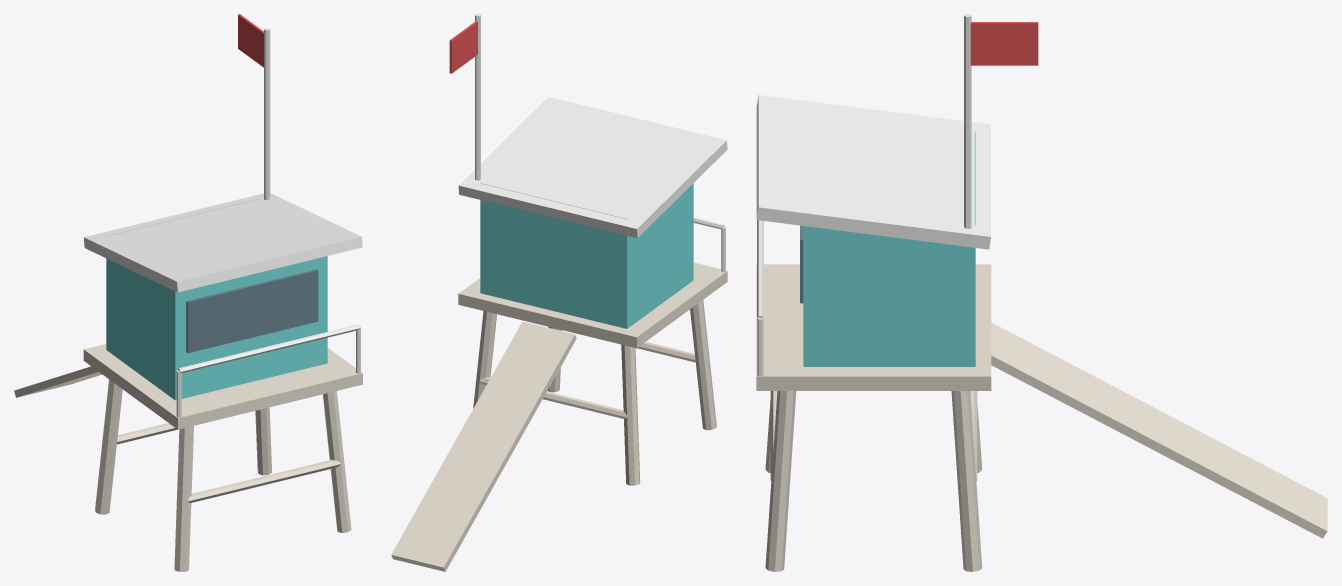
File: lifeguard.glb
The picture shows the model from 3 angles, left to right: view 1: azimuth 30°, elevation 25°; view 2: azimuth 150°, elevation 25°; view 3: azimuth 270°, elevation 25°; orthographic projection. The views are drawn at different scales.
Parts seen in each view (by area): view 1: Kabine, Cube.002, Cube, Cube.001, Cylinder, Cylinder.002, Cylinder.001, Cylinder.004, Cylinder.009, Cylinder.008, Cylinder.003, Cube.004 (+2 smaller); view 2: Cube.002, Kabine, Cube.003, Cube, Cylinder.001, Cylinder, Cylinder.003, Cube.004, Cylinder.009, Cylinder.005, Cylinder.004; view 3: Cube.002, Kabine, Cube.003, Cube, Cylinder.002, Cylinder.003, Cube.004, Cylinder.009.
Boxes of the visible parts, left/top/right/bottom form: Kabine: left=106, top=199, right=327, bottom=400; Cube.002: left=84, top=193, right=362, bottom=292; Cube: left=83, top=344, right=362, bottom=429; Cube.001: left=186, top=269, right=318, bottom=353; Cylinder: left=174, top=426, right=193, bottom=571; Cylinder.002: left=322, top=391, right=351, bottom=532; Cylinder.001: left=95, top=379, right=122, bottom=514; Cylinder.004: left=188, top=459, right=340, bottom=502; Cylinder.009: left=264, top=28, right=270, bottom=200; Cylinder.008: left=178, top=324, right=359, bottom=373; Cylinder.003: left=255, top=407, right=271, bottom=475; Cube.004: left=238, top=14, right=263, bottom=67; Cube.002: left=458, top=96, right=727, bottom=238; Kabine: left=480, top=183, right=693, bottom=328; Cube.003: left=391, top=321, right=576, bottom=571; Cube: left=458, top=262, right=727, bottom=348; Cylinder.001: left=621, top=344, right=640, bottom=485; Cylinder: left=690, top=300, right=716, bottom=430; Cylinder.003: left=473, top=311, right=496, bottom=408; Cube.004: left=449, top=21, right=477, bottom=73; Cylinder.009: left=475, top=14, right=480, bottom=180; Cylinder.005: left=479, top=377, right=626, bottom=418; Cylinder.004: left=637, top=342, right=695, bottom=362; Cube.002: left=756, top=95, right=990, bottom=249; Kabine: left=803, top=132, right=975, bottom=366; Cube.003: left=991, top=322, right=1327, bottom=538; Cube: left=756, top=264, right=991, bottom=390; Cylinder.002: left=765, top=391, right=796, bottom=571; Cylinder.003: left=951, top=391, right=982, bottom=571; Cube.004: left=970, top=22, right=1038, bottom=65; Cylinder.009: left=964, top=14, right=971, bottom=228.
Bounding box in the file's own units: 3.4 × 7.84 × 7.3.
